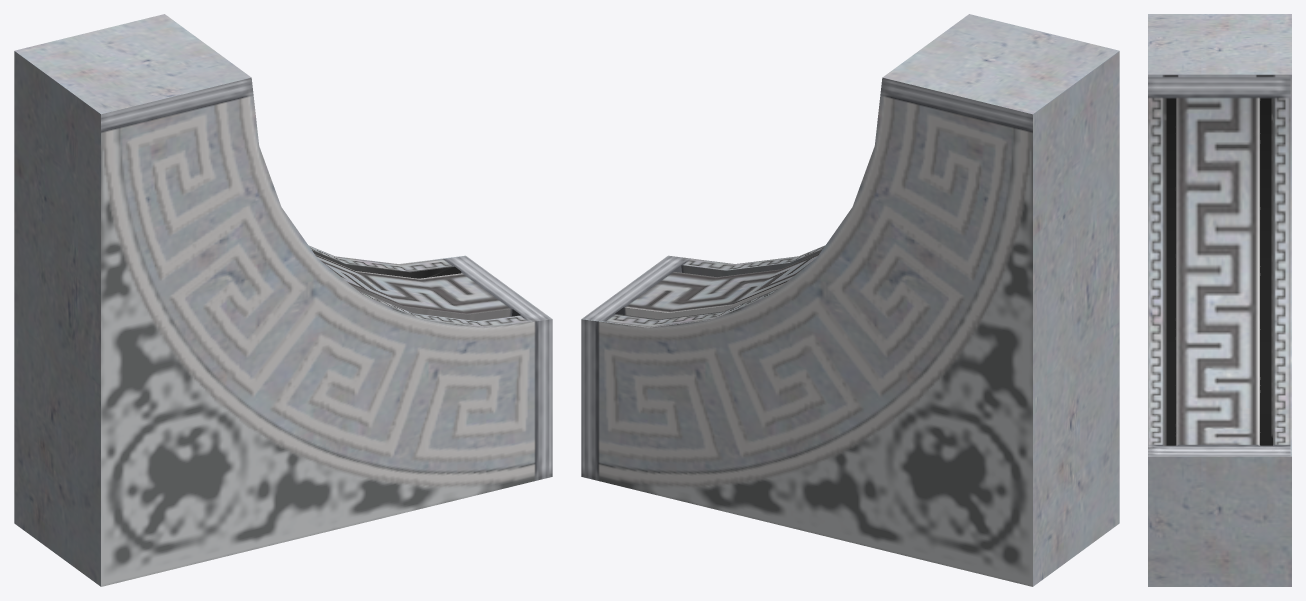
The model's file is Slope1_Set2.fbx.
The picture shows the model from 3 angles, left to right: view 1: azimuth 30°, elevation 25°; view 2: azimuth 150°, elevation 25°; view 3: azimuth 270°, elevation 25°; orthographic projection. The views are drawn at different scales.
Parts seen in each view (by area): view 1: Slope1_Set2; view 2: Slope1_Set2; view 3: Slope1_Set2.
Part boxes in pixels (x1,y1,x2,y2): Slope1_Set2: [14, 14, 552, 586]; Slope1_Set2: [581, 14, 1119, 586]; Slope1_Set2: [1148, 14, 1291, 586].
Size of the model in its own units: 3 by 3 by 1.
